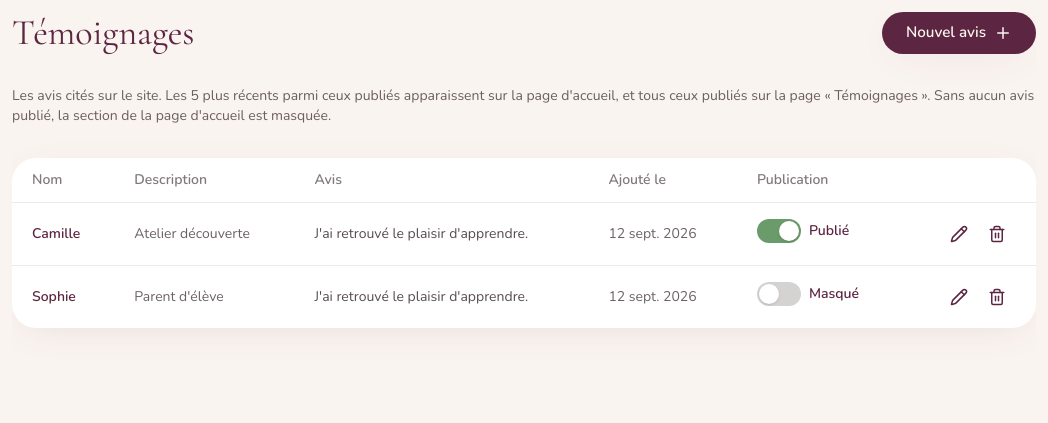
Test: ReviewsEditor › publishes a review as soon as its switch is flipped, and refreshes the site
Step 1. Click the switch named "Publier l'avis de Sophie" → coordinates (808, 294), box [757,282,859,306]
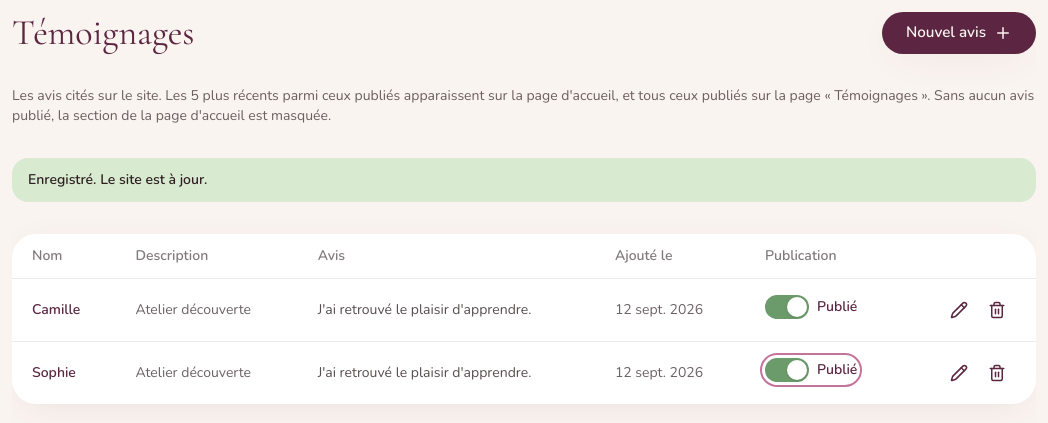
Check: the switch named "Publier l'avis de Sophie" is checked, box [765,358,857,382]
Check: the text "Enregistré. Le site est à jour." is shown, box [12,158,1036,202]
